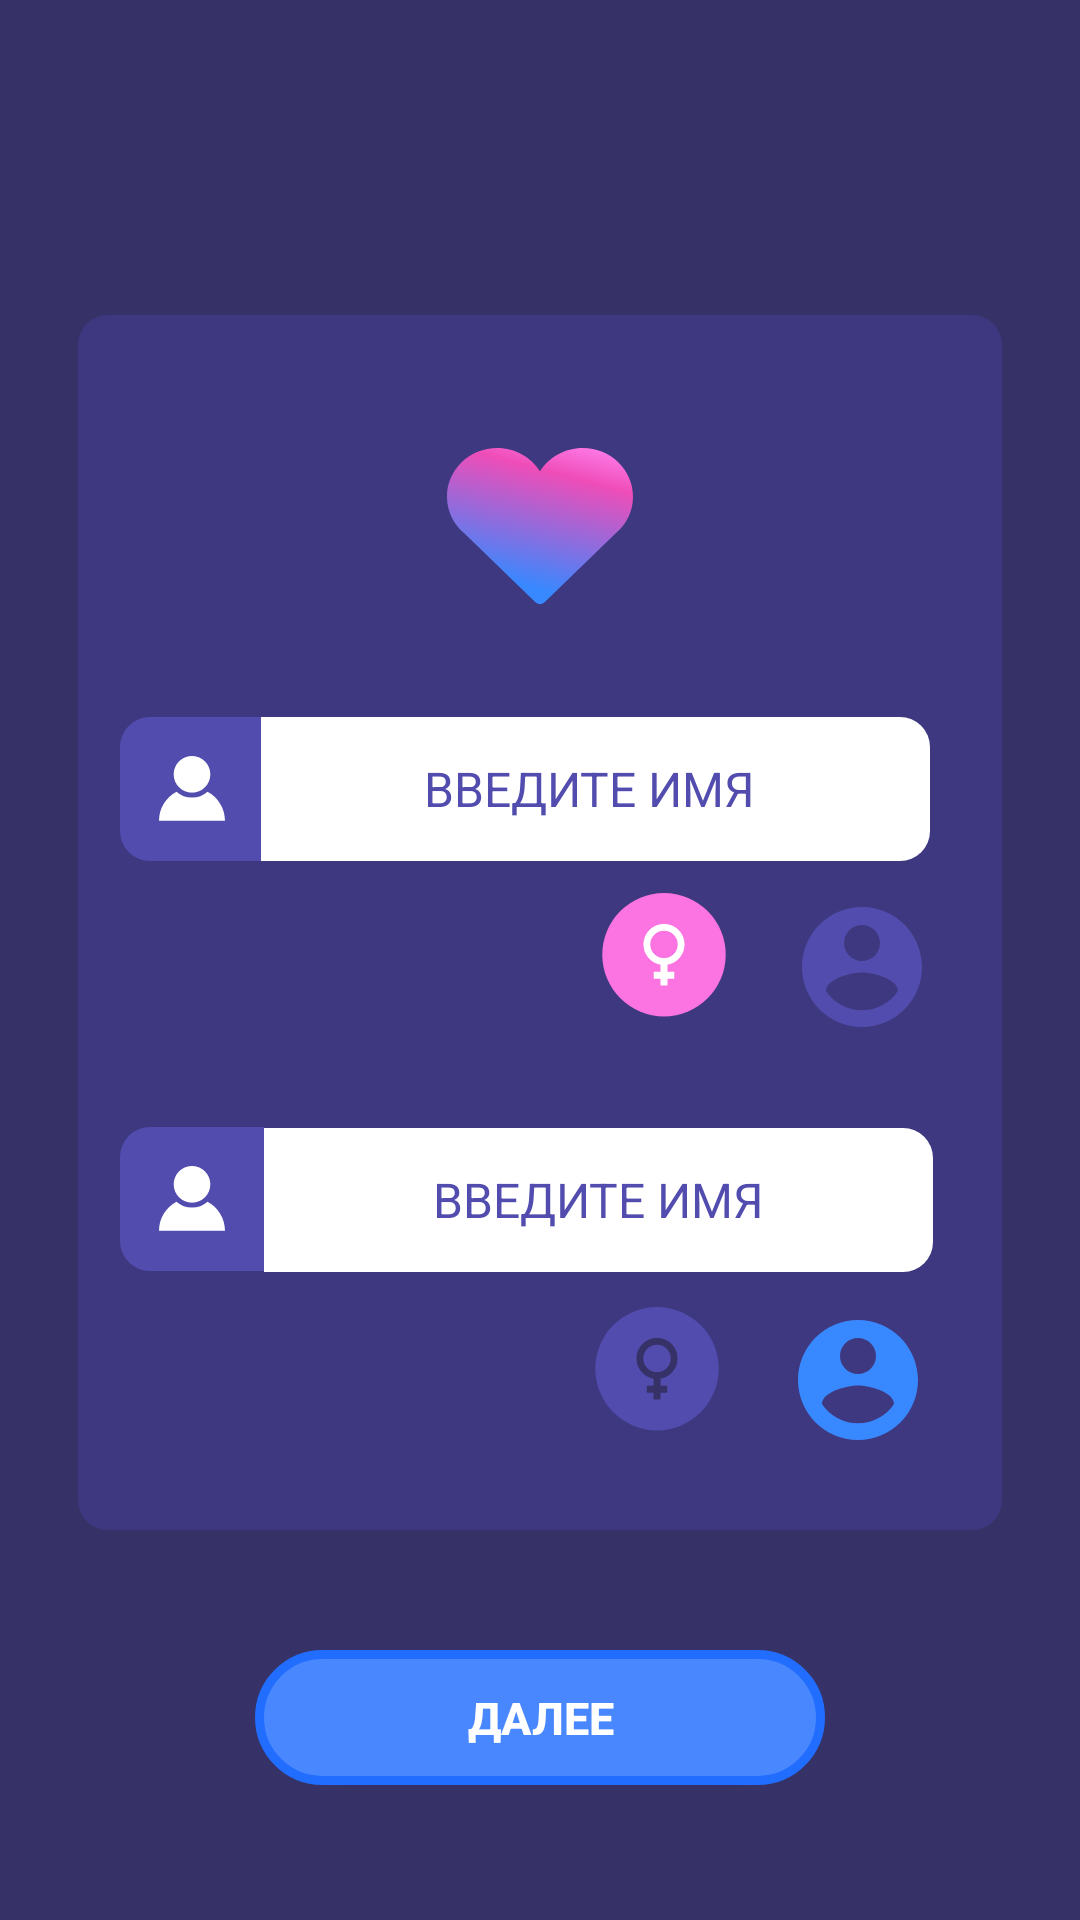

Screen size 1080px×1920px. Icon name, then its center in pixels as (x,y):
heart: (540,526)
